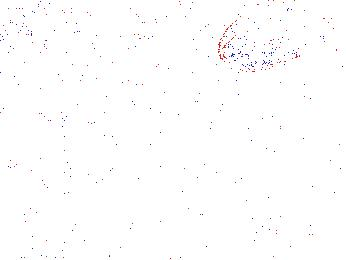moon jellyfish: (217, 1, 336, 74), (77, 20, 149, 85), (134, 2, 214, 51), (9, 5, 99, 45), (1, 9, 19, 78)
